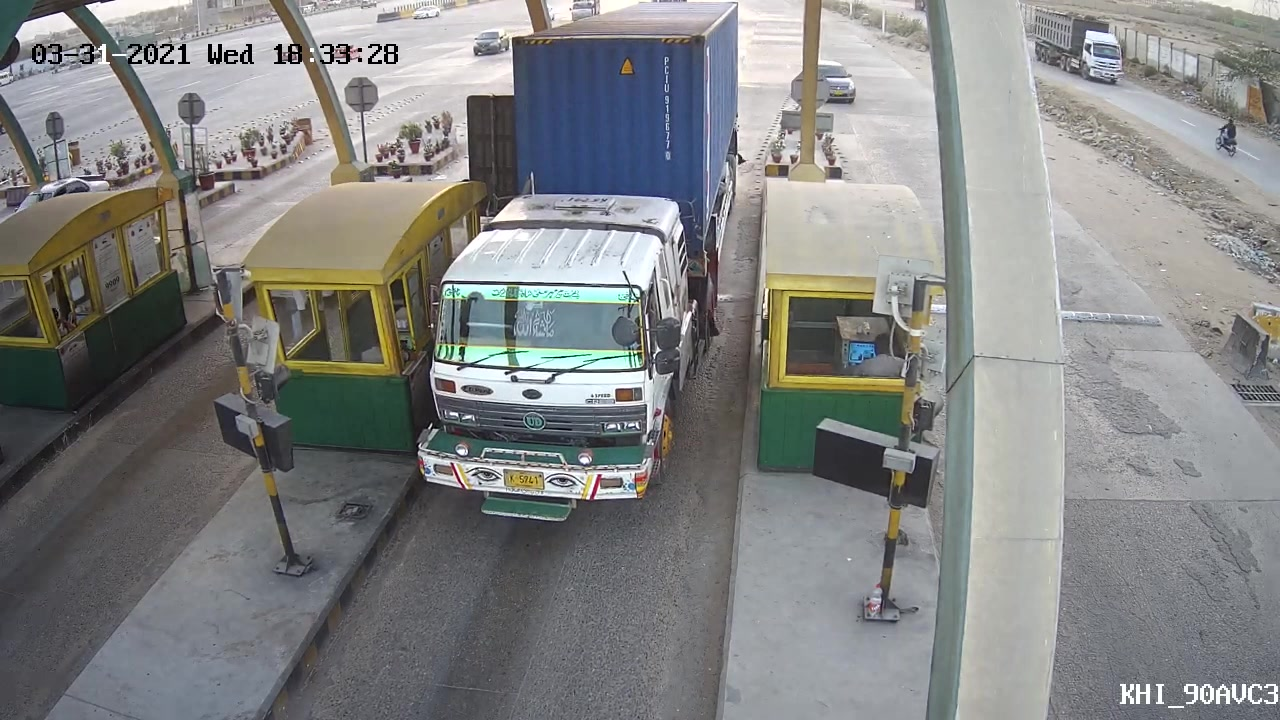F6: (423, 6, 759, 543)
